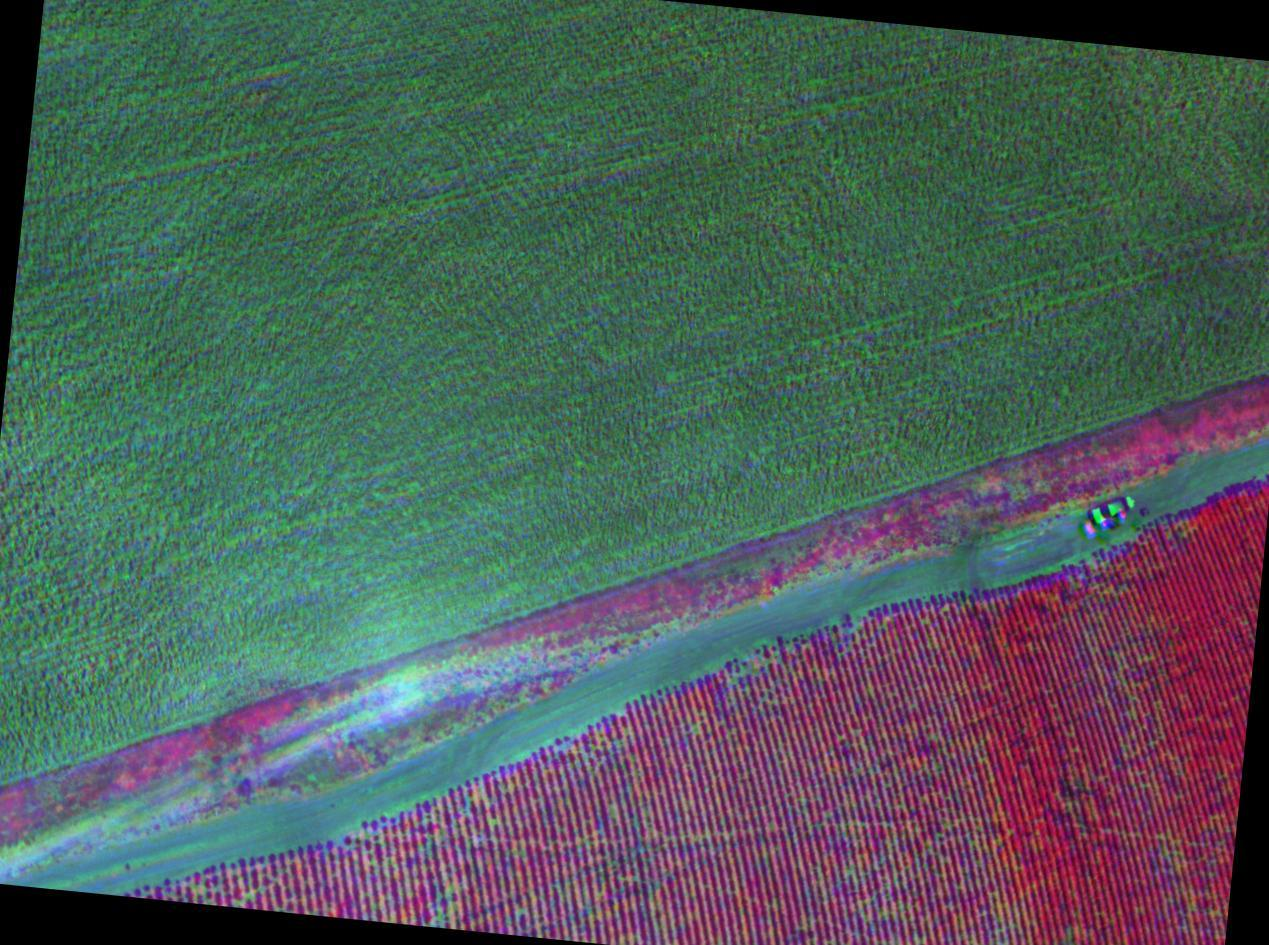dc: (406, 861, 478, 934), (1074, 629, 1135, 698), (853, 864, 913, 926), (329, 825, 391, 873), (730, 648, 789, 698), (1145, 820, 1191, 881)
